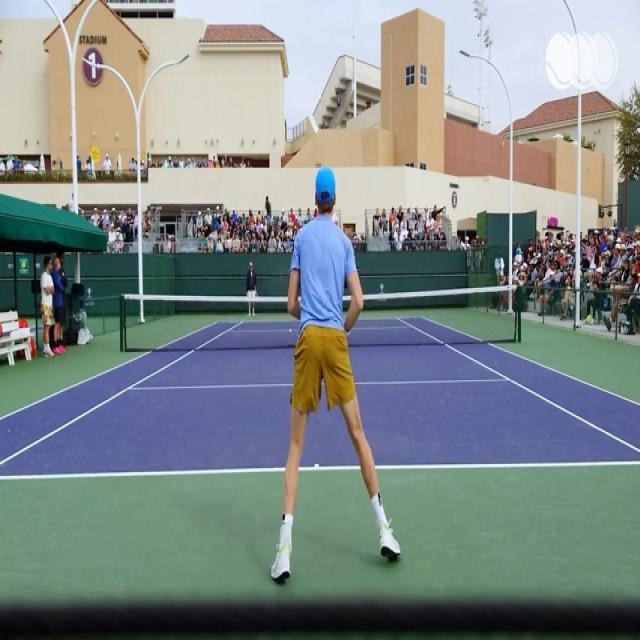ready-position: (274, 170, 397, 572)
